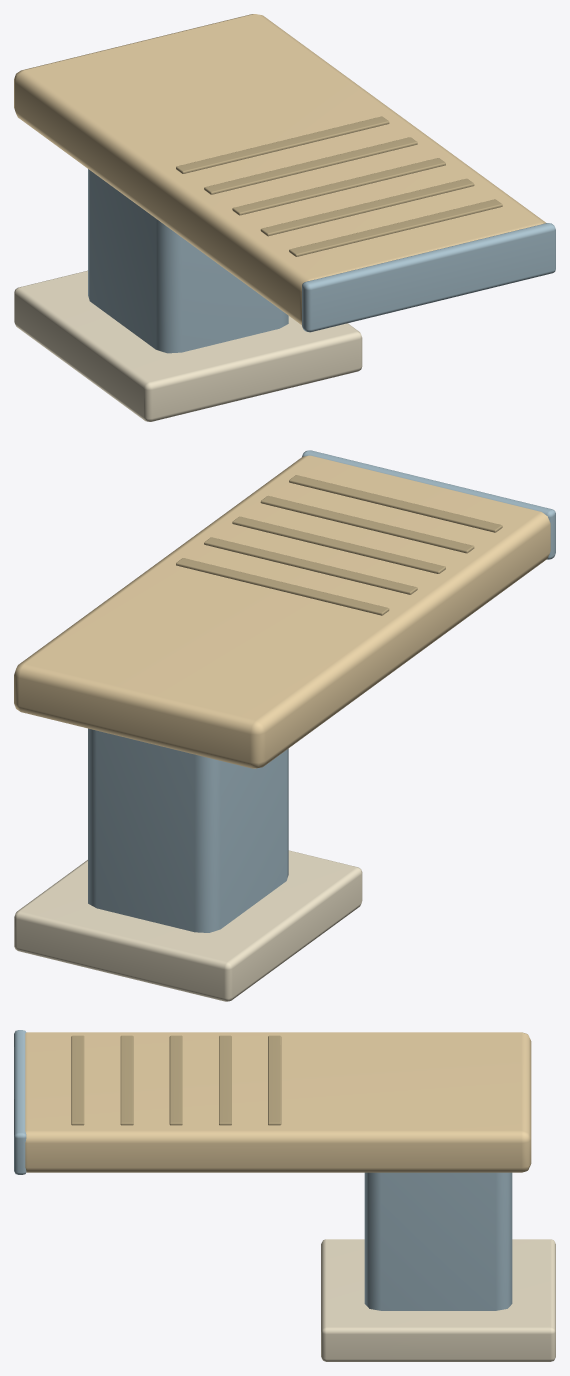
File: pool.board-new.glb
3 views of the same model, one above another, from view 1: azimuth 30°, elevation 25°; view 2: azimuth 150°, elevation 25°; view 3: azimuth 270°, elevation 25° (orthographic). The views are drawn at different scales.
Visible parts, largest first — view 1: Anchored foot; view 2: Anchored foot; view 3: Anchored foot.
Boxes of the visible parts, x1=… form: Anchored foot: x1=14, y1=14, x2=555, y2=421; Anchored foot: x1=14, y1=450, x2=555, y2=1001; Anchored foot: x1=14, y1=1030, x2=555, y2=1361.
Size of the model in its own units: 0.46 by 0.482 by 0.992.
